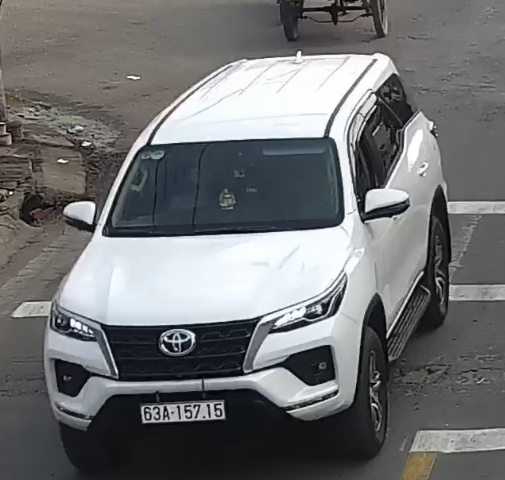vehicle plate: (133, 397, 232, 426)
